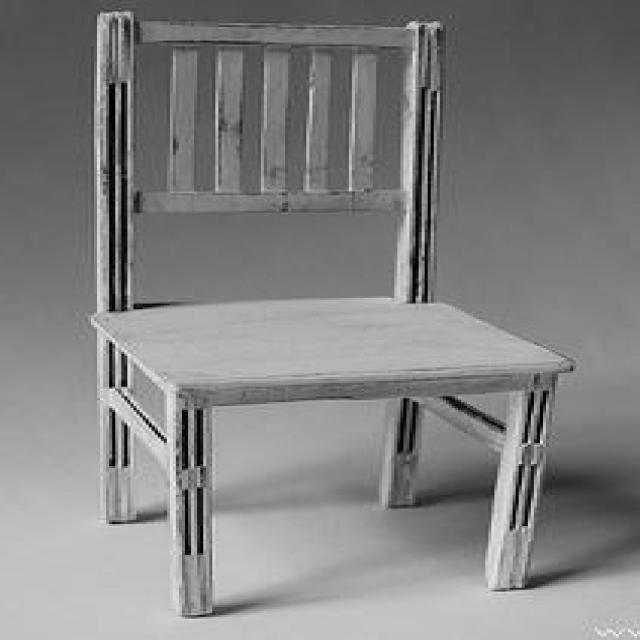chair: (82, 5, 569, 621)
